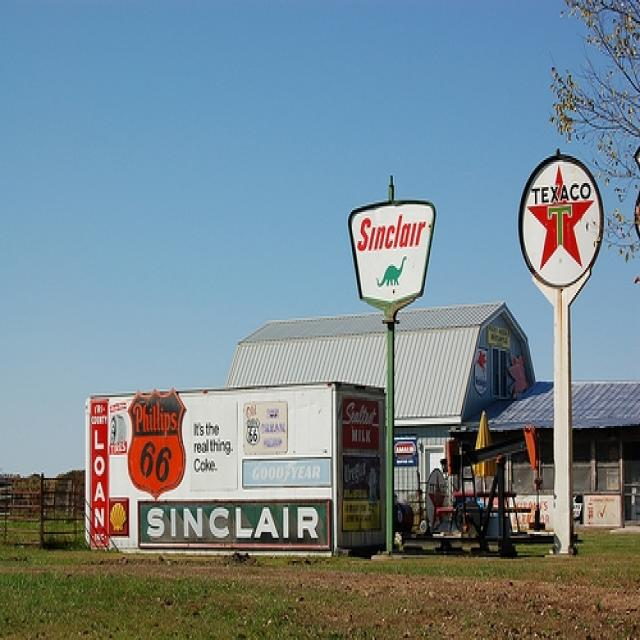texaco: (522, 155, 605, 288)
